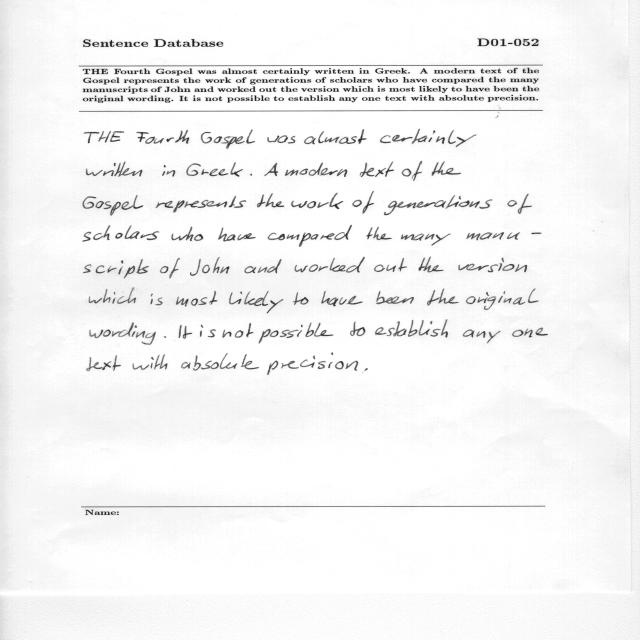word: (384, 195, 492, 215), (268, 353, 359, 375), (268, 225, 352, 247), (380, 129, 476, 147), (466, 288, 539, 310), (259, 323, 334, 344), (156, 196, 246, 213), (90, 322, 156, 345), (181, 353, 259, 371), (83, 259, 149, 279), (375, 320, 448, 338), (83, 225, 159, 242), (83, 195, 143, 216), (229, 291, 283, 313), (295, 257, 365, 273), (201, 129, 255, 149), (458, 258, 527, 273), (304, 130, 367, 145), (285, 163, 347, 177), (86, 162, 143, 177), (186, 162, 243, 177), (291, 193, 343, 209), (89, 287, 136, 304), (190, 257, 230, 276), (136, 130, 190, 144), (467, 232, 542, 241), (321, 291, 363, 306), (176, 291, 217, 306), (401, 234, 451, 246), (133, 354, 168, 370), (427, 289, 459, 306), (87, 355, 121, 371), (244, 259, 282, 273), (218, 228, 255, 242), (463, 330, 500, 344), (360, 162, 394, 177), (507, 194, 532, 214), (376, 291, 414, 304), (352, 192, 374, 214), (84, 131, 124, 143), (223, 323, 254, 338), (374, 258, 407, 272), (172, 227, 204, 241), (160, 258, 180, 279), (432, 162, 461, 176), (402, 161, 422, 181), (257, 194, 284, 208), (419, 257, 444, 272), (512, 328, 548, 338), (366, 227, 392, 240), (268, 136, 296, 144), (350, 322, 365, 336), (293, 292, 309, 305), (200, 325, 216, 337), (264, 163, 278, 176), (179, 325, 192, 339), (162, 165, 175, 177), (151, 294, 163, 305), (364, 368, 368, 371), (250, 174, 252, 176), (164, 336, 166, 338)
